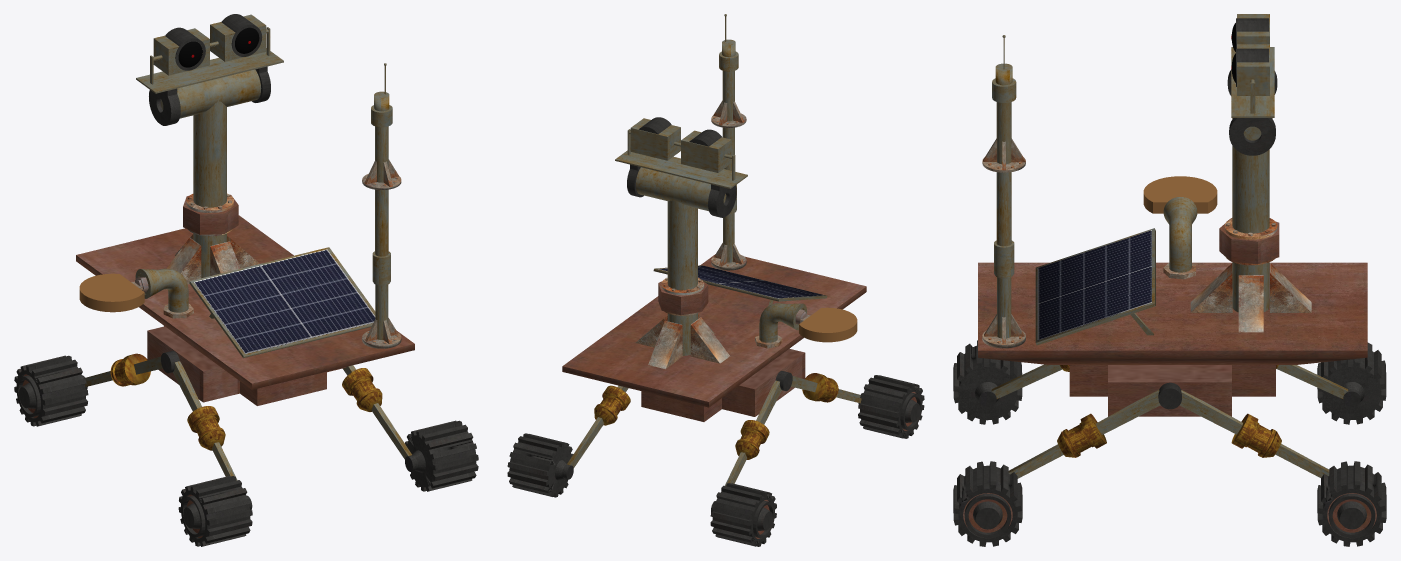
Rendered from rover.glb.
The picture shows the model from 3 angles, left to right: view 1: azimuth 30°, elevation 25°; view 2: azimuth 150°, elevation 25°; view 3: azimuth 270°, elevation 25°; orthographic projection. The views are drawn at different scales.
Visible parts, largest first — view 1: rearrightwheel.001; view 2: rearrightwheel.001; view 3: rearrightwheel.001.
Part boxes in pixels (left/top/right/bottom): rearrightwheel.001: left=14, top=14, right=478, bottom=546; rearrightwheel.001: left=507, top=14, right=924, bottom=546; rearrightwheel.001: left=953, top=14, right=1386, bottom=546.
Bounding box in the file's own units: 2.43 × 3.34 × 2.77.
11 materials, 8 textured.
